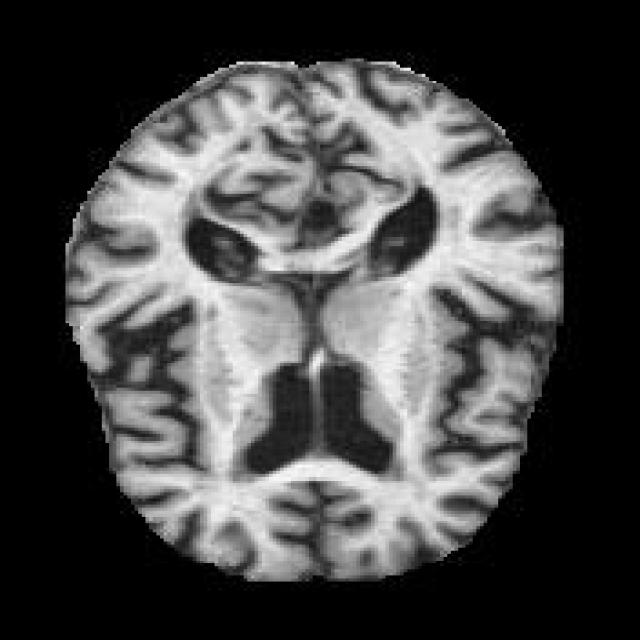Alzheimer: (58, 56, 564, 584)
